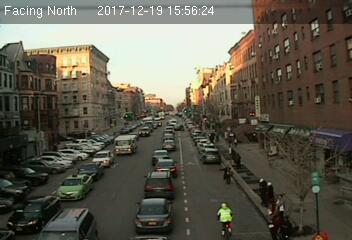bicycle: (214, 201, 235, 240)
car: (5, 192, 62, 230), (134, 197, 172, 234), (56, 172, 92, 201), (142, 170, 173, 198), (76, 162, 105, 182), (154, 157, 176, 175), (91, 150, 115, 166), (202, 149, 221, 163), (151, 150, 167, 162), (163, 137, 175, 149), (138, 127, 150, 136)
pedestrian: (221, 164, 234, 186)
truck: (114, 134, 135, 152)
